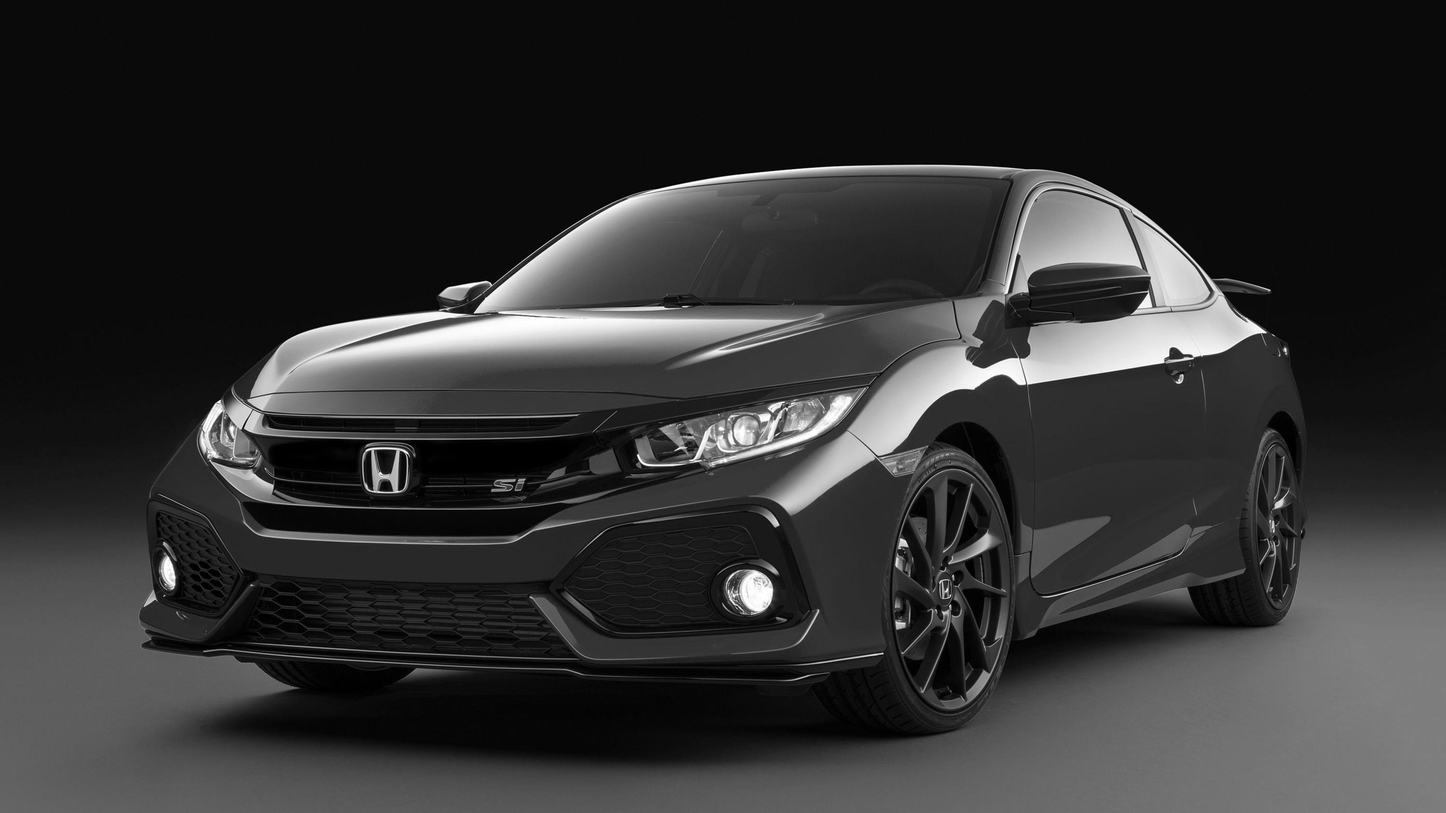Car hood: (228, 293, 970, 427)
Fender - -F-L-: (840, 274, 1045, 650)
Fender - -R-L-: (1226, 321, 1299, 591)
Front bumper: (135, 419, 915, 695)
Headlight - -L-: (620, 377, 880, 486)
Headlight - -R-: (185, 386, 275, 484)
Passenger-s door - -F-L-: (1001, 169, 1208, 599)
Rear bumper: (1296, 431, 1329, 555)
Side bumper - -L-: (999, 511, 1264, 648)
Side mirror - -L-: (1009, 245, 1174, 340)
Side mirror - -R-: (431, 260, 494, 323)
